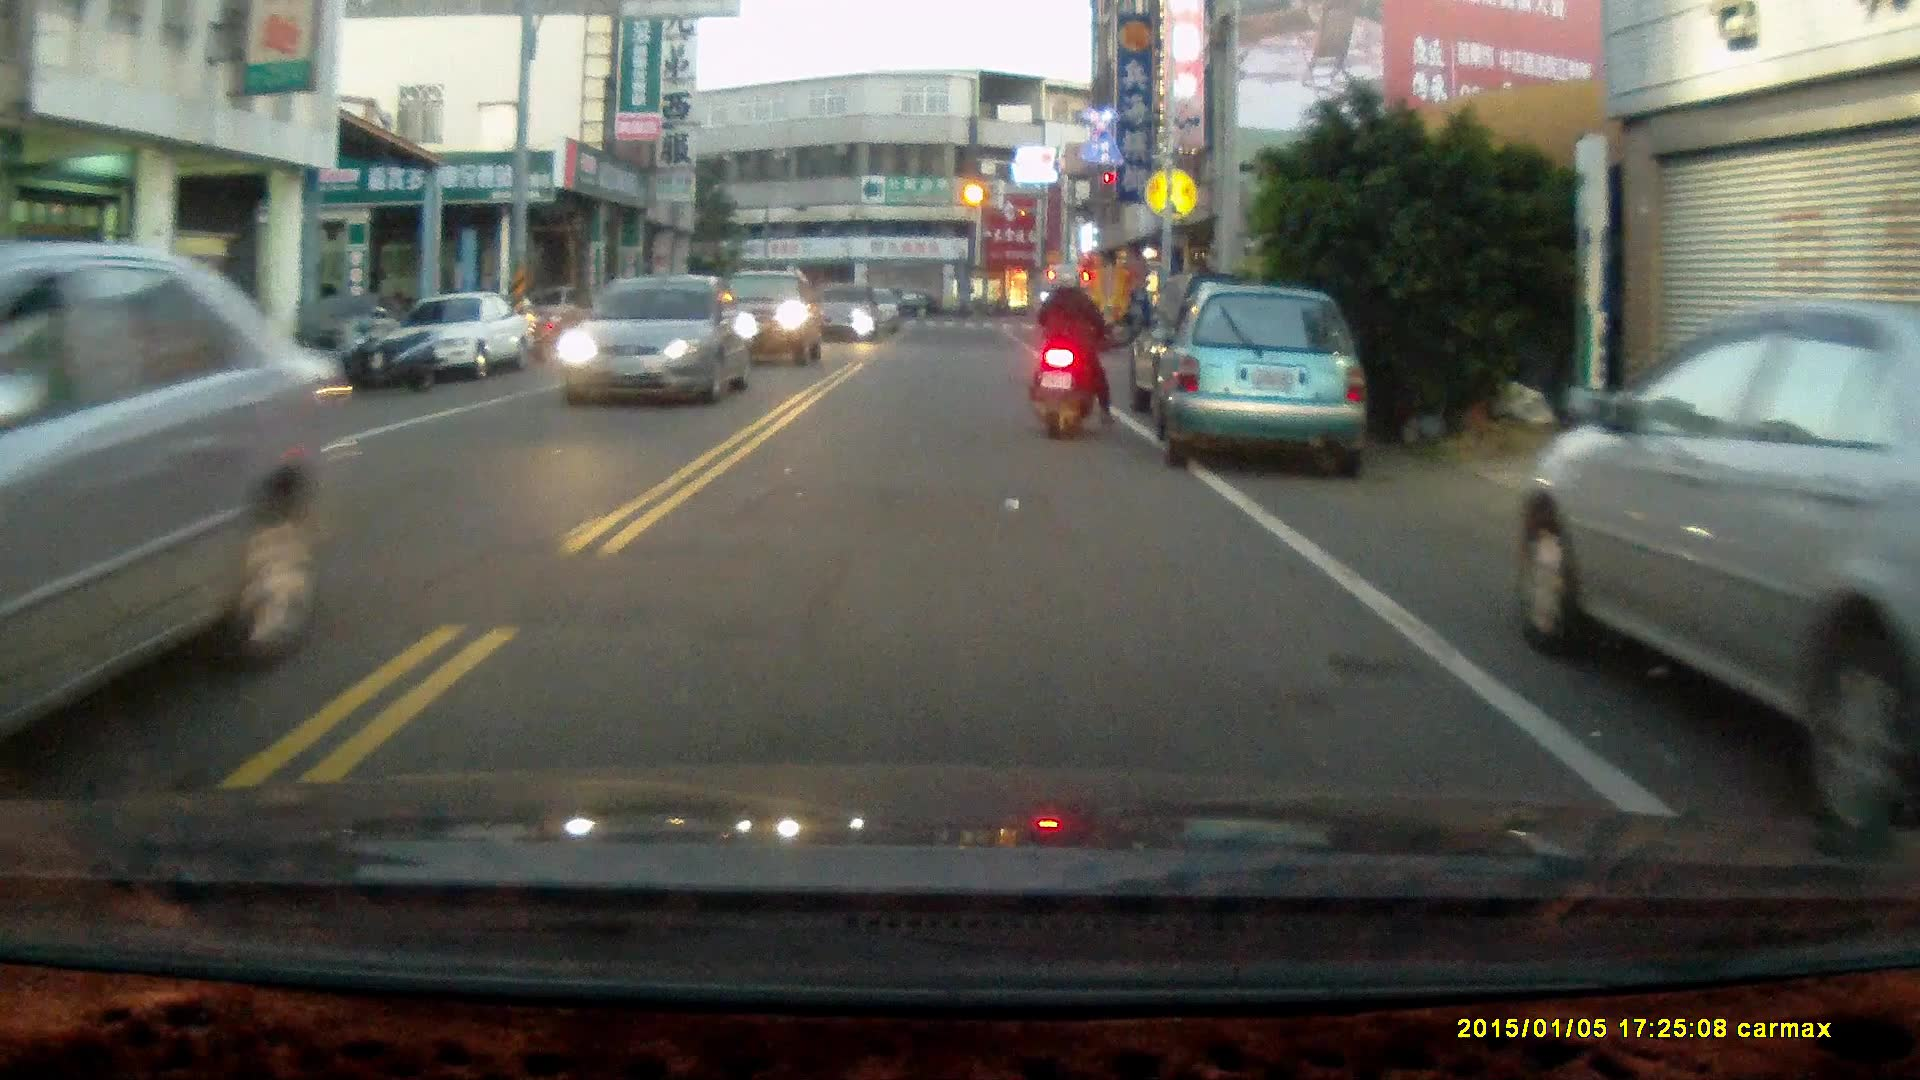rider: (1028, 267, 1116, 439)
vehicle: (1521, 302, 1920, 840), (1, 244, 345, 755), (1159, 280, 1373, 486), (562, 274, 751, 408), (389, 291, 535, 385), (702, 270, 830, 371)
